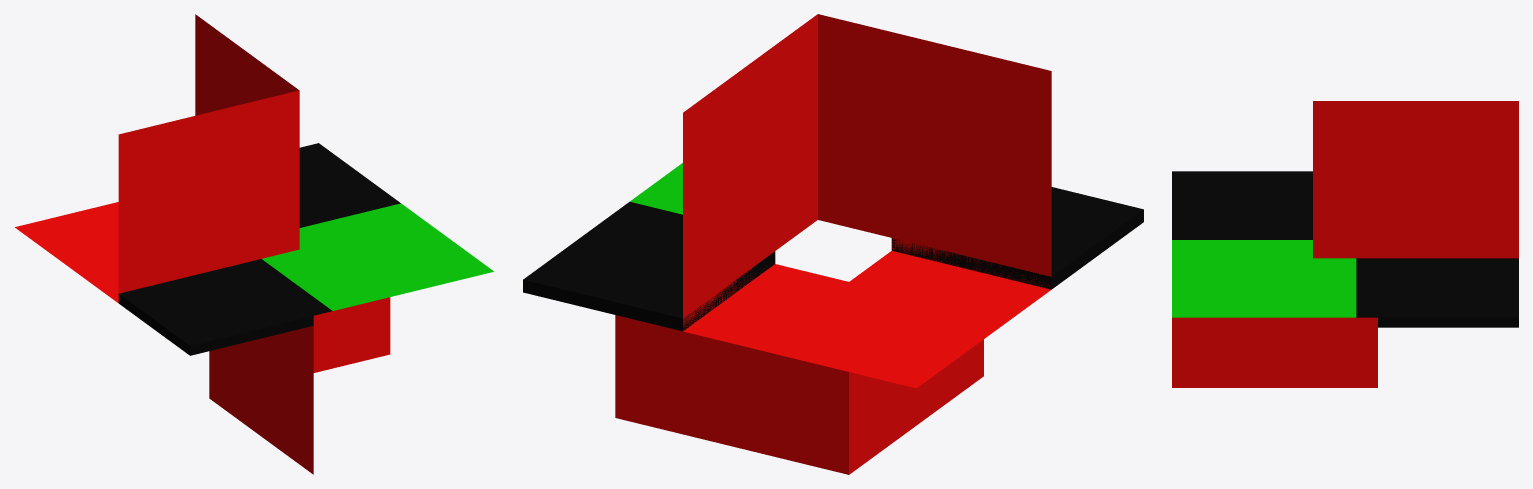
The picture shows the model from 3 angles, left to right: view 1: azimuth 30°, elevation 25°; view 2: azimuth 150°, elevation 25°; view 3: azimuth 270°, elevation 25°; orthographic projection. The views are drawn at different scales.
Parts seen in each view (by area): view 1: None_P_W_E_E_E_P_A_E_None; view 2: None_P_W_E_E_E_P_A_E_None; view 3: None_P_W_E_E_E_P_A_E_None.
Part boxes in pixels (x1=…): None_P_W_E_E_E_P_A_E_None: x1=15, y1=14, x2=493, y2=474; None_P_W_E_E_E_P_A_E_None: x1=523, y1=14, x2=1143, y2=474; None_P_W_E_E_E_P_A_E_None: x1=1172, y1=101, x2=1518, y2=387.
Bounding box in the file's own units: 100 × 100 × 100.
